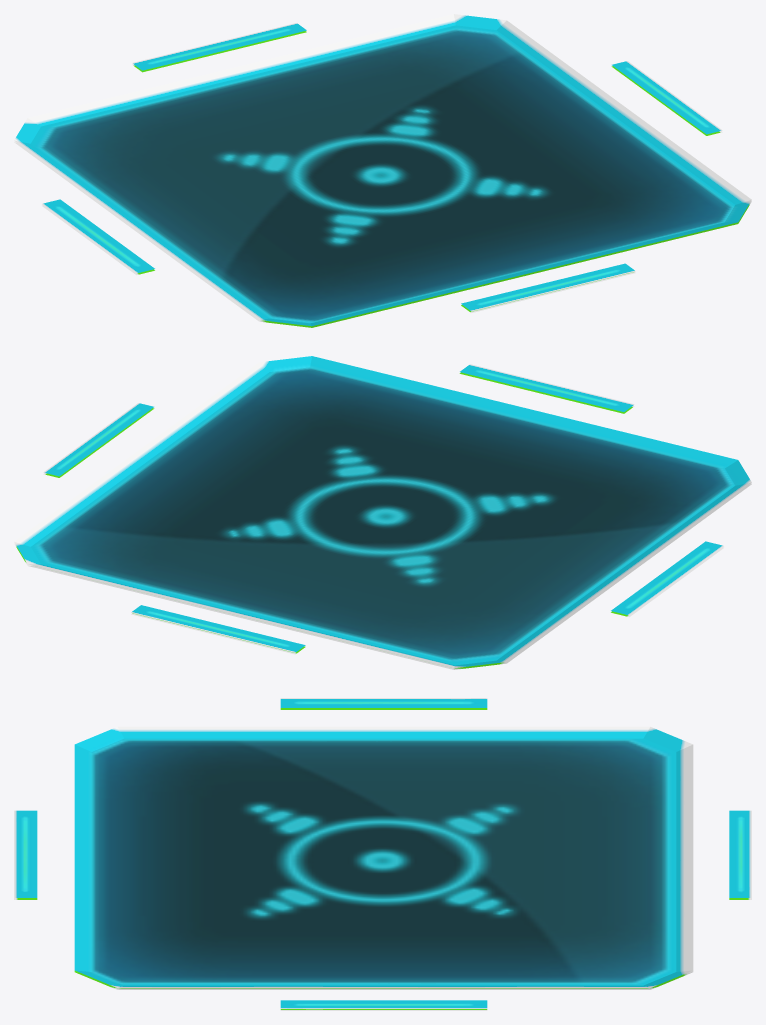
The model's file is ts_mjdgb.FBX.
3 renders of one model, top to bottom at view 1: azimuth 30°, elevation 25°; view 2: azimuth 150°, elevation 25°; view 3: azimuth 270°, elevation 25°, orthographic. The views are drawn at different scales.
Parts seen in each view (by area): view 1: tx_mjdg002, tx_mjdg003; view 2: tx_mjdg002, tx_mjdg003; view 3: tx_mjdg002, tx_mjdg003.
Boxes of the visible parts, box(x1,y1,x2,y2) form: tx_mjdg002: box(14, 14, 751, 326); tx_mjdg003: box(14, 31, 751, 327); tx_mjdg002: box(14, 356, 751, 668); tx_mjdg003: box(14, 372, 751, 669); tx_mjdg002: box(14, 698, 751, 1008); tx_mjdg003: box(14, 708, 751, 1010).
Bounding box in the file's own units: 3.31 × 0.0487 × 3.32.
